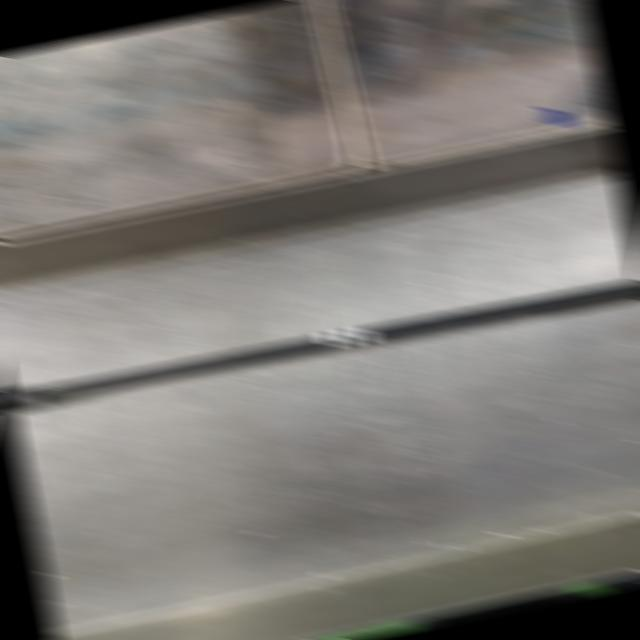white: (321, 326, 378, 348)
